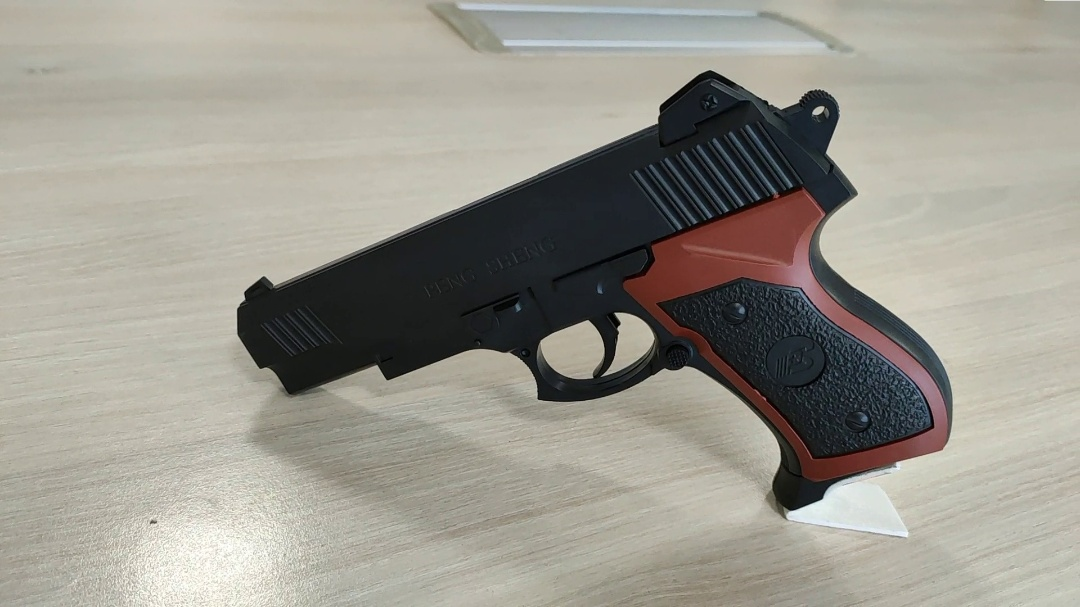gun: (575, 218, 741, 284)
